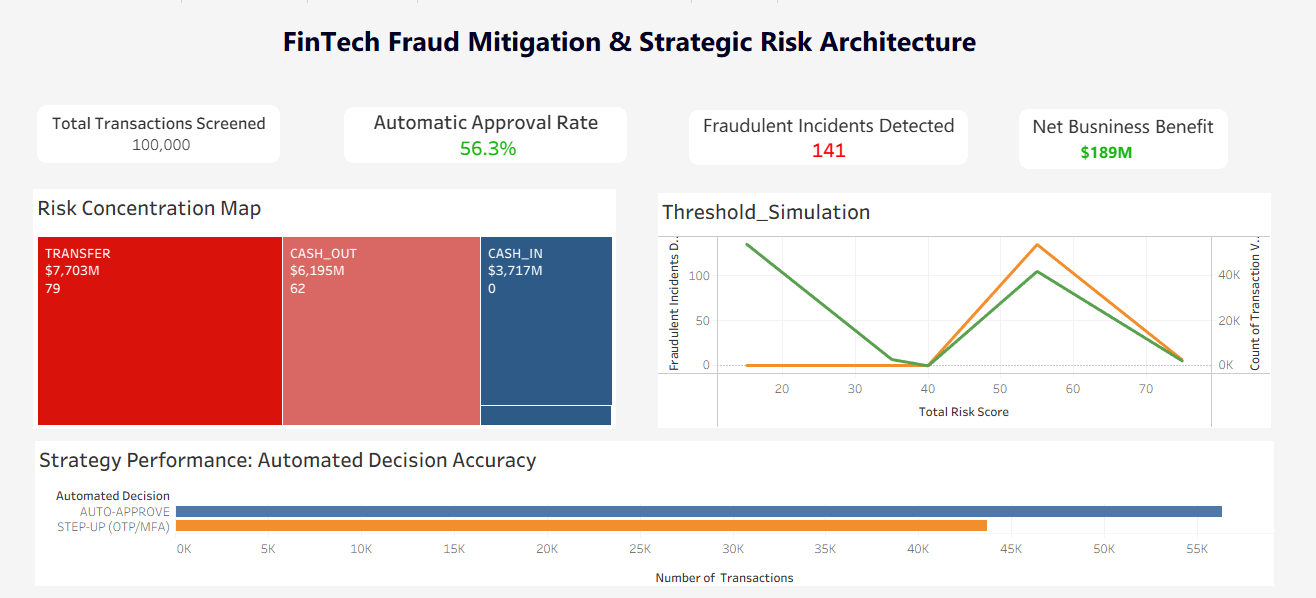

Layout of this report page (visuals, bound fields, positions):
{"tool":"tableau","page":{"name":"FinTech Fraud Mitigation & Strategic Risk Architecture","canvas":[1000,1000],"units":"permille","ordinal":0},"visuals":[{"type":"text","box":[3.7,16.9,966.5,82.8]},{"type":"worksheet","title":"KPI VOLUME ","mark":"Automatic","box":[44.8,168.9,181.3,98]},{"type":"worksheet","title":"Automatic Approval Rate","mark":"Automatic","box":[273.9,172.3,211.2,94.6]},{"type":"worksheet","title":"KPI_Net_Recovery","mark":"Automatic","box":[777.6,175.7,156,101.4]},{"type":"worksheet","title":"TOTAL FRAUD CAUGHT","mark":"Text","box":[531.3,177.4,208.2,92.9]},{"type":"worksheet","title":"Risk Concentration Map","mark":"Automatic","box":[41.8,310.8,435.1,405.4]},{"type":"worksheet","title":"Threshold_Simulation","mark":"Automatic","rows":["Actual_Fraud_Status","Amount"],"cols":["total_risk_score"],"box":[508.2,317.6,457.5,397]},{"type":"worksheet","title":"Strategy Performance: Automated Decision Accuracy","mark":"Automatic","rows":["automated_decision"],"cols":["fraud_decision_results.csv_28F89E4C8E144784AD90E7B5F2E1B467"],"box":[43.3,736.5,924.6,244.9]}]}

Visuals, with their boxes on the dashboard's canvas, which has no fixed pixel size, in thousandths of its width and height (x1, y1, x2, y2). These are canvas units, not pixel positions in the 1316x598 screenshot, which may show the page scaled, cropped or inside an application window:
text: <region>4, 17, 970, 100</region>
"KPI VOLUME " worksheet: <region>45, 169, 226, 267</region>
"Automatic Approval Rate" worksheet: <region>274, 172, 485, 267</region>
"KPI_Net_Recovery" worksheet: <region>778, 176, 934, 277</region>
"TOTAL FRAUD CAUGHT" worksheet (Text marks): <region>531, 177, 740, 270</region>
"Risk Concentration Map" worksheet: <region>42, 311, 477, 716</region>
"Threshold_Simulation" worksheet: <region>508, 318, 966, 715</region>
"Strategy Performance: Automated Decision Accuracy" worksheet: <region>43, 736, 968, 981</region>
